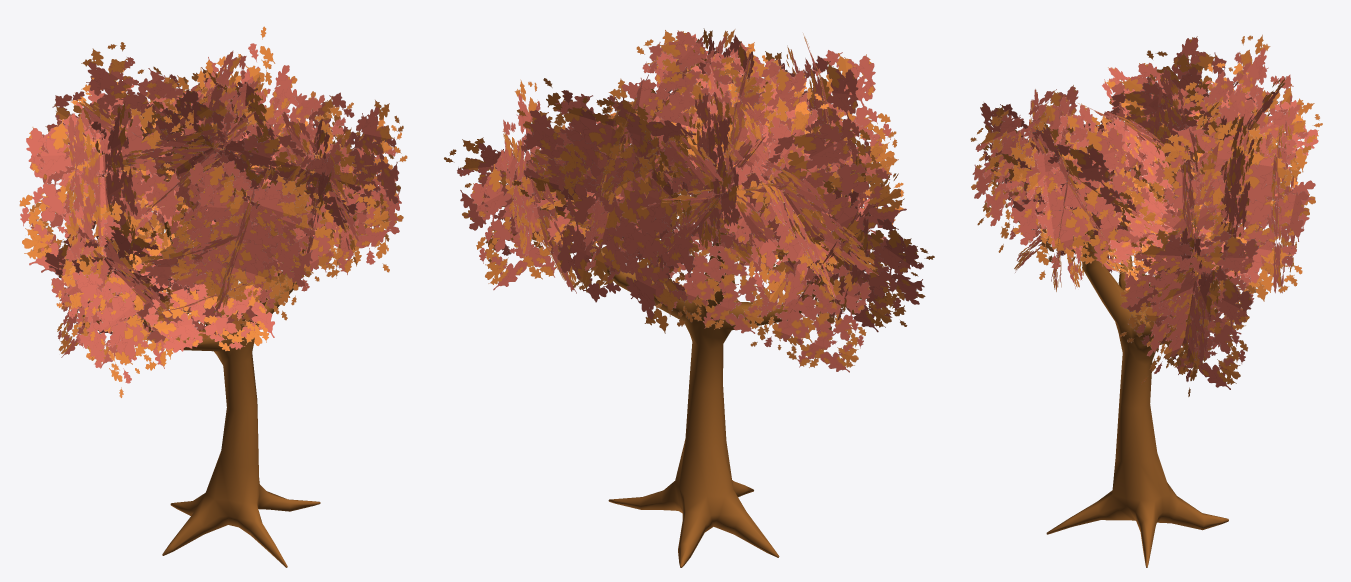
File: SM_OakTree.fbx
3 views of the same model, side by side, from view 1: azimuth 30°, elevation 25°; view 2: azimuth 150°, elevation 25°; view 3: azimuth 270°, elevation 25° (orthographic). The views are drawn at different scales.
Visible parts, largest first — view 1: Oak_Leaves, OakTree.001; view 2: Oak_Leaves, OakTree.001; view 3: Oak_Leaves, OakTree.001.
Boxes of the visible parts, x1,y1,x2,y2 form: Oak_Leaves: (19,26,407,397); OakTree.001: (132,175,342,567); Oak_Leaves: (444,28,934,372); OakTree.001: (570,191,835,567); Oak_Leaves: (970,34,1322,396); OakTree.001: (1046,171,1228,567).
Size of the model in its own units: 281 by 319 by 219.
